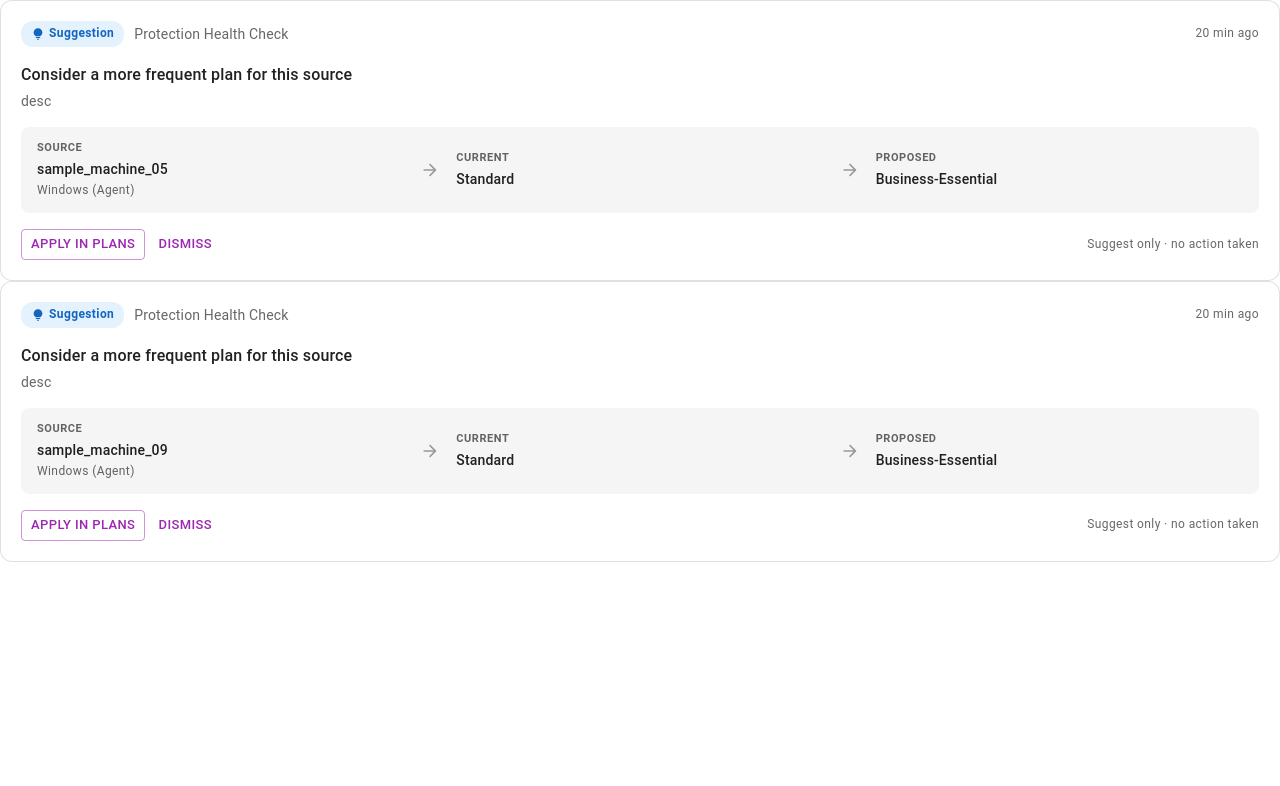
Test: WaitingOnYouCard — suggestion card dismiss panel › only one card's panel is open at a time
This screenshot has width=1280, height=786.
Step 1. Click the button "Dismiss" below "sample_machine_05" → (185, 244), box [153,229,217,260]
(page scrolled)
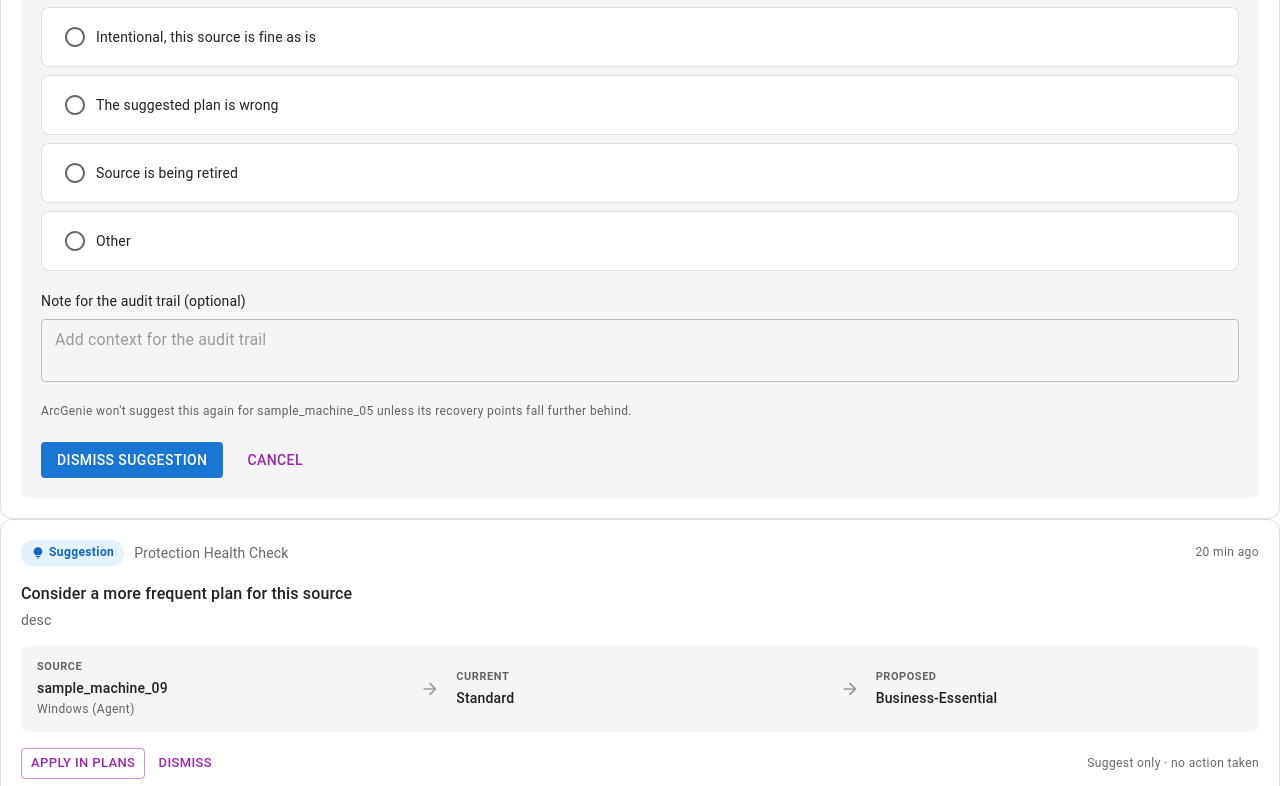
Step 2. Click the button "Dismiss" → (185, 764), box [153,748,217,779]
(page scrolled)
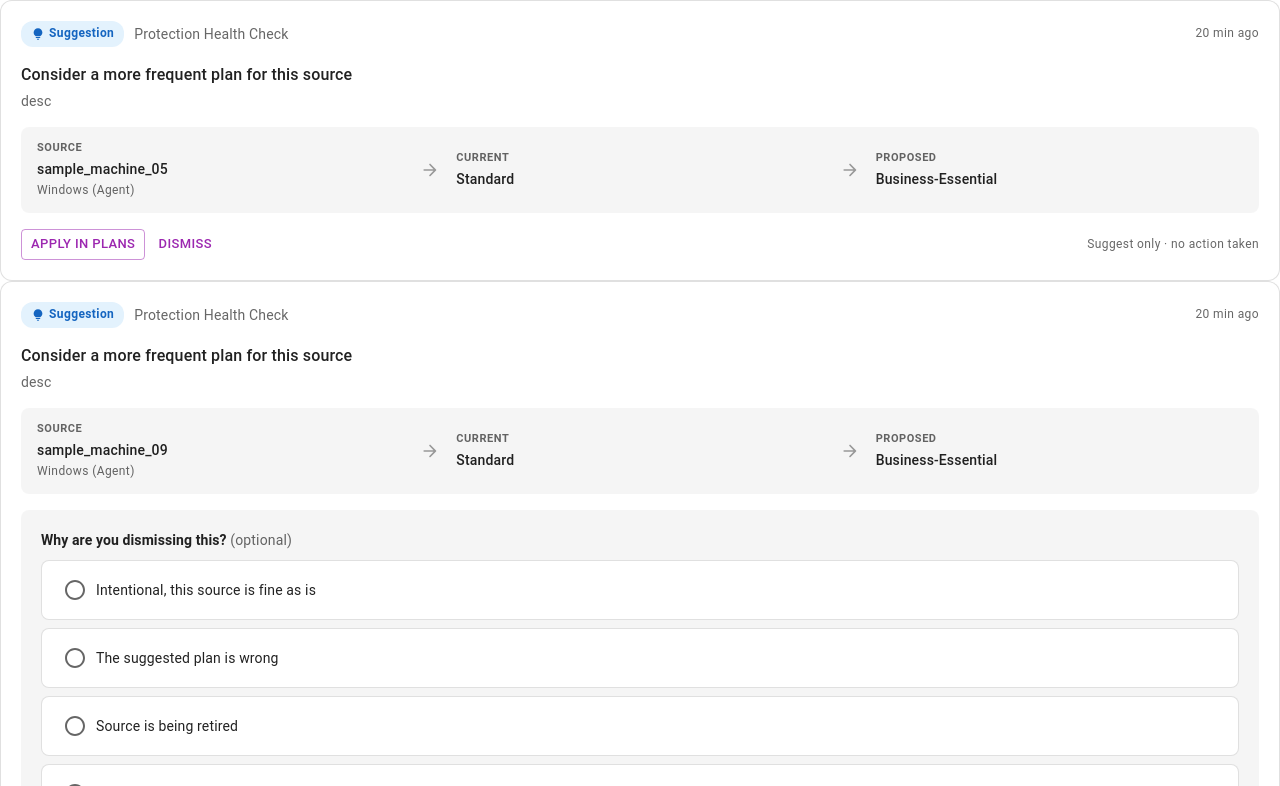
Check: the number of buttons "Dismiss" is 1, box [153,229,217,260]
Check: the number of headings "Why are you dismissing this? (optional)" is 1, box [41,532,292,548]
